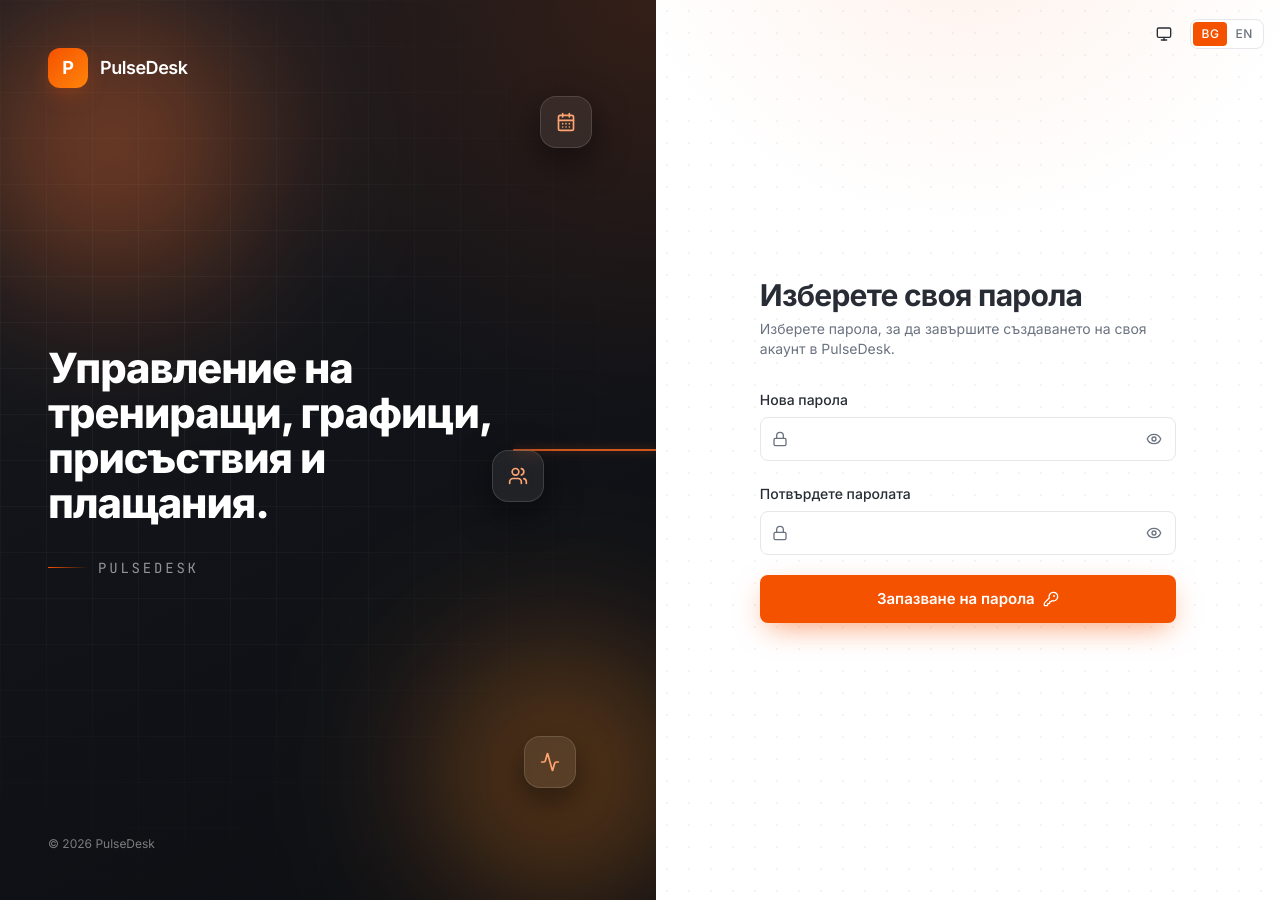
Test: AcceptInvitePage › blocks submission when the password is shorter than 8 characters
Type "short" into the password field labelled "Нова парола" at (968, 439), box [760,417,1176,461]
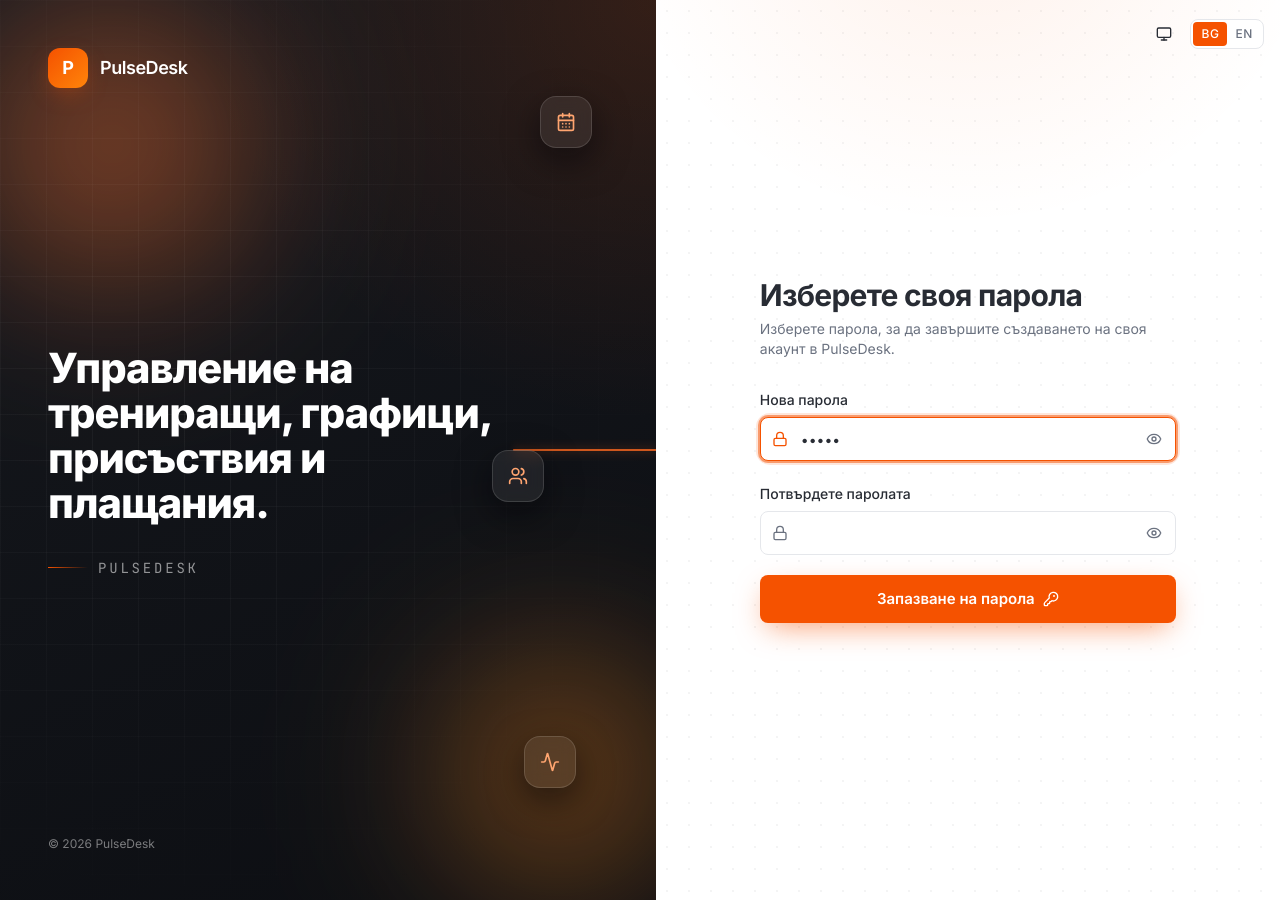
Type "short" into the password field labelled "Потвърдете паролата" at (968, 533), box [760,511,1176,555]
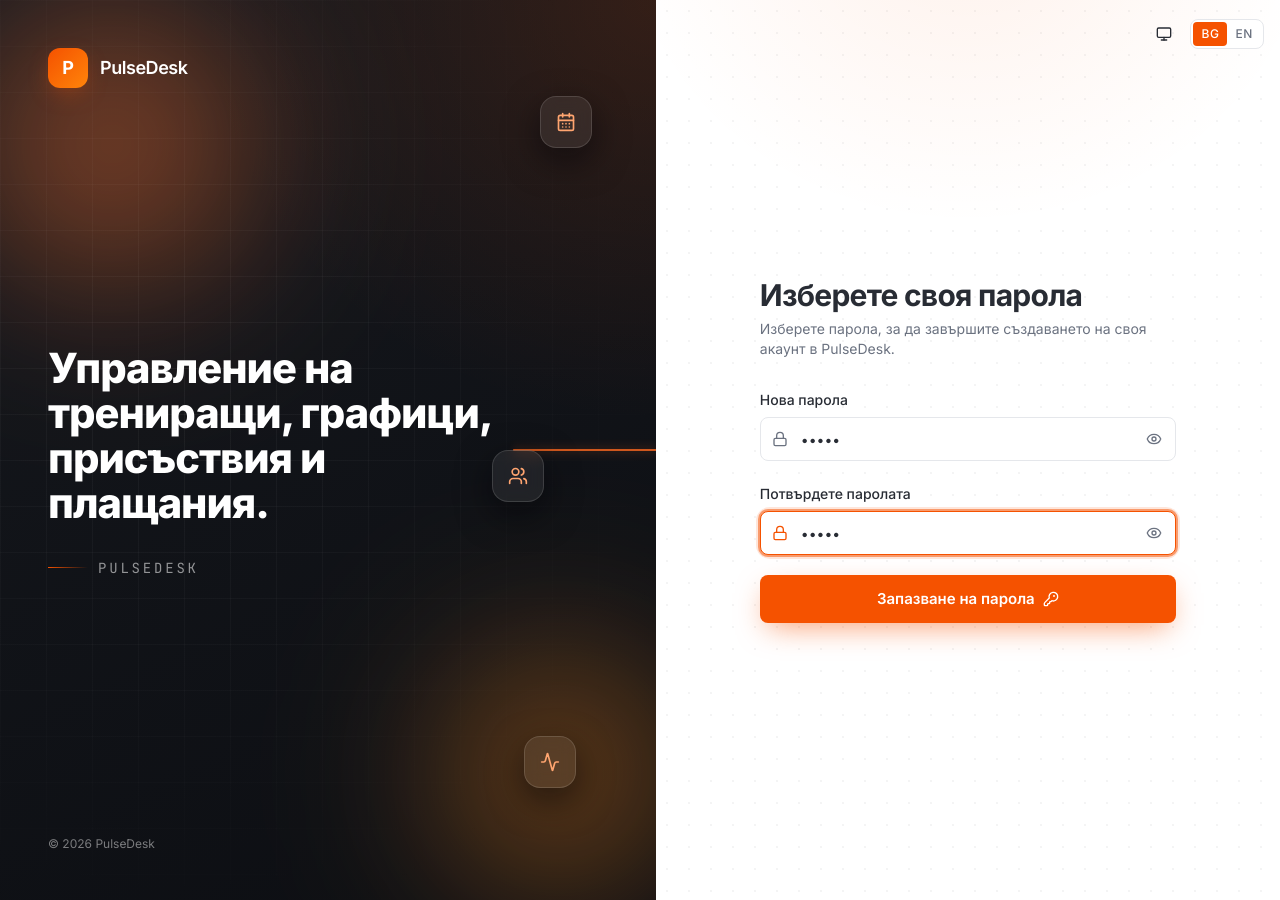
Click the button "Запазване на парола" at (968, 599), box [760,575,1176,623]
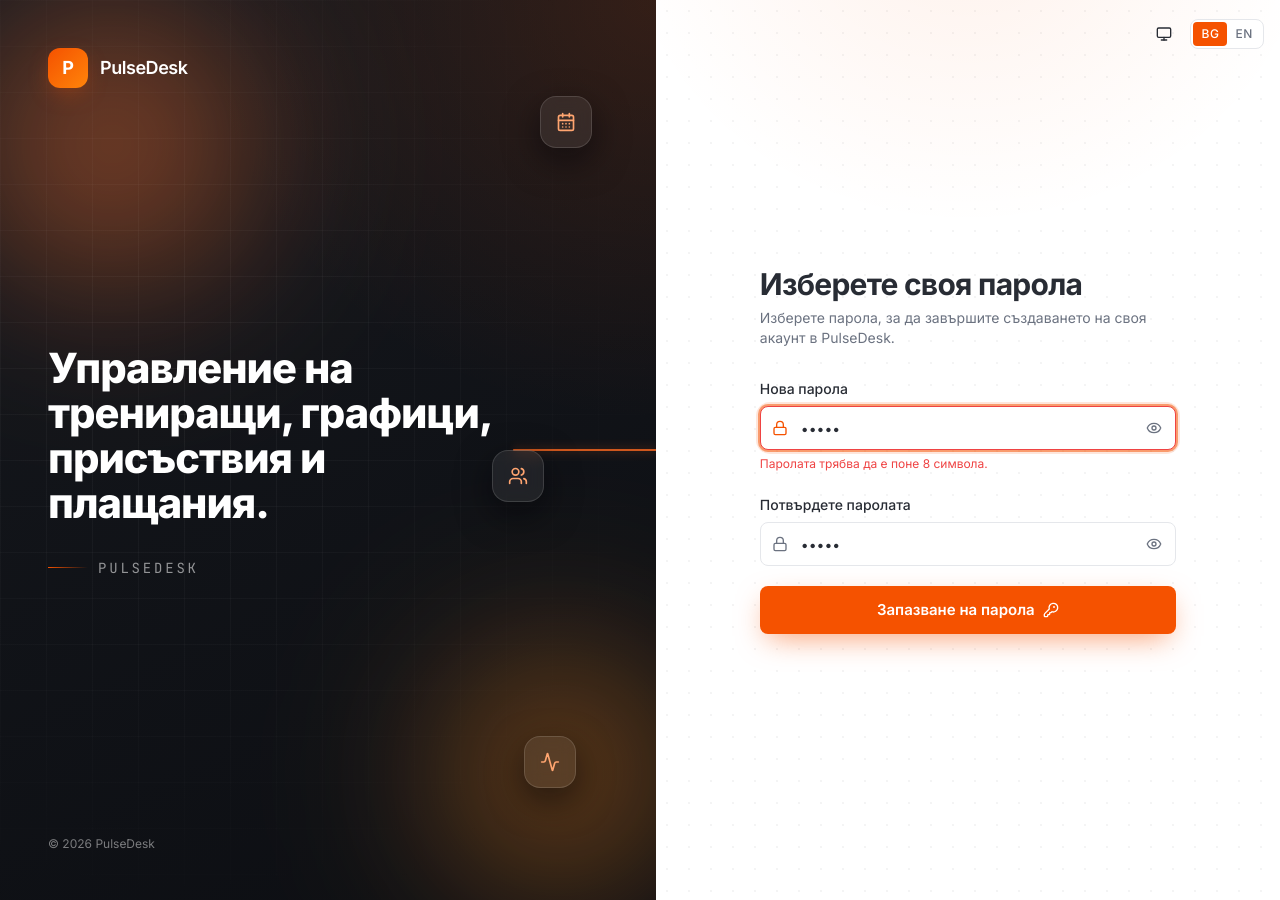
Expected: the text "Паролата трябва да е поне 8 символа." is shown, [760,456,988,471]
